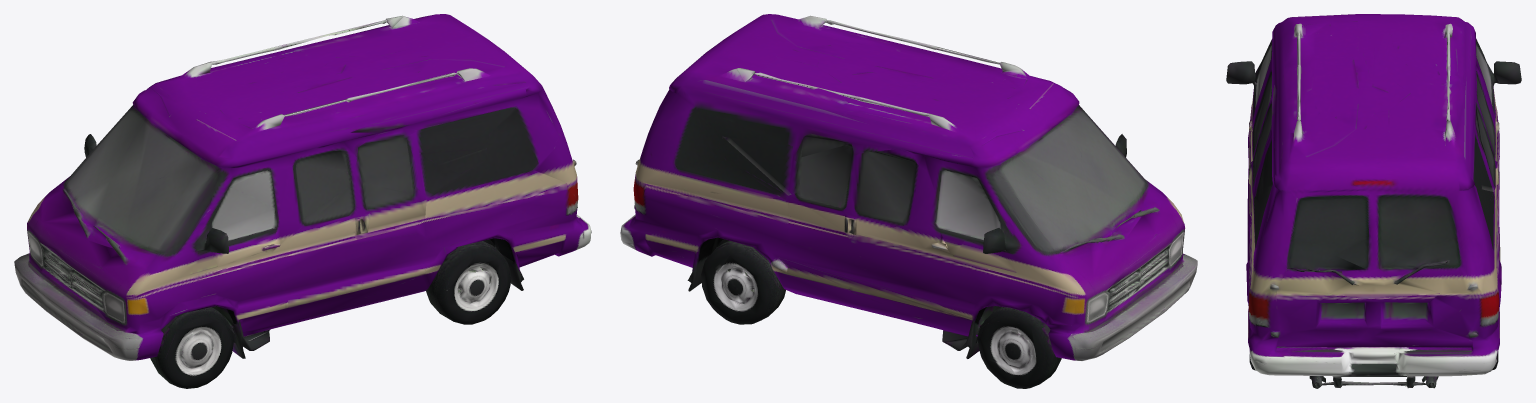
File: minivan.glb
3 views of the same model, side by side, from view 1: azimuth 30°, elevation 25°; view 2: azimuth 150°, elevation 25°; view 3: azimuth 270°, elevation 25° (orthographic). The views are drawn at different scales.
Size of the model in its own units: 1.91 by 0.9005 by 0.9671.
1 material, 1 textured.
